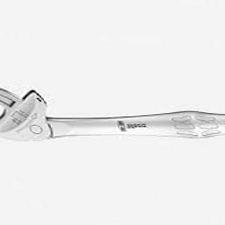Wrench: (1, 71, 225, 143)
